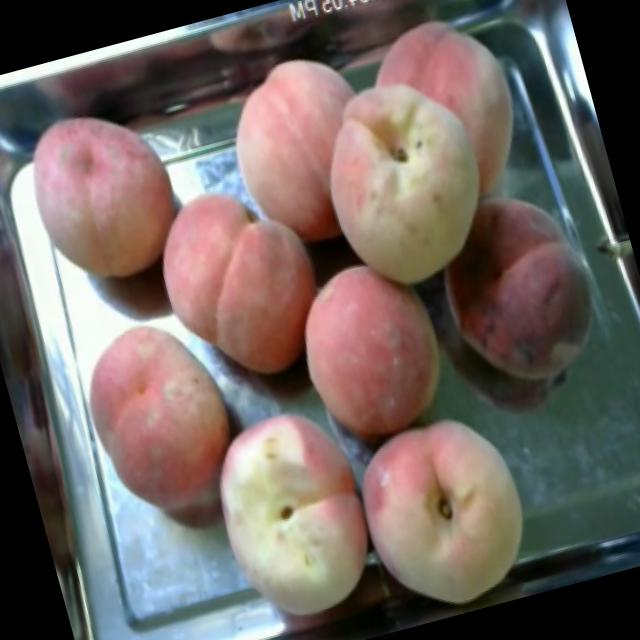Fruit: (291, 50, 518, 312), (409, 163, 635, 419), (54, 294, 270, 558), (129, 158, 354, 410), (181, 385, 388, 640), (340, 387, 556, 629), (266, 237, 474, 470), (198, 31, 401, 268), (0, 80, 203, 308)
